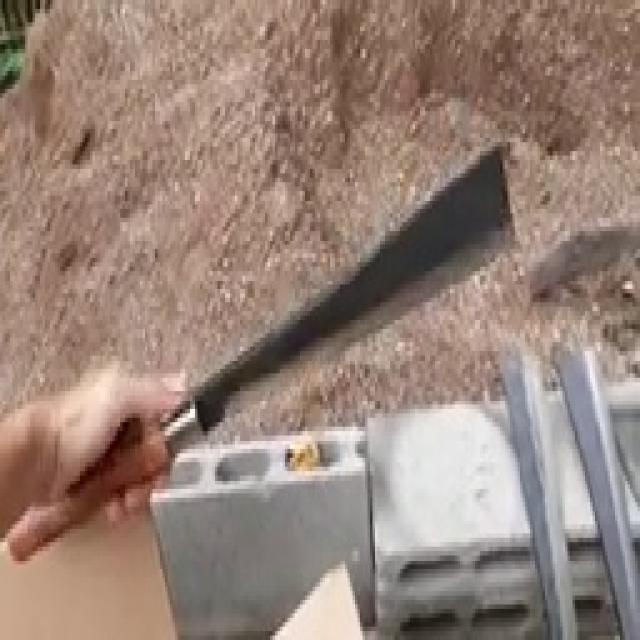eto: (4, 135, 519, 560)
